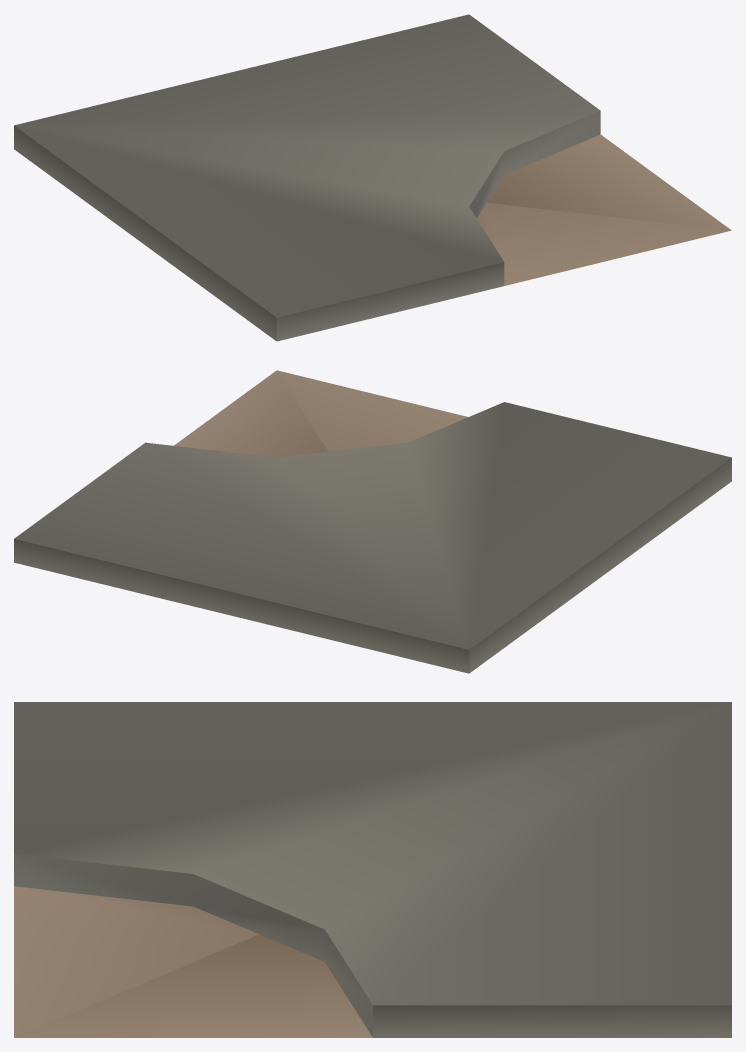
The model's file is road-dirt-corner-inner.glb.
3 renders of one model, top to bottom at view 1: azimuth 30°, elevation 25°; view 2: azimuth 150°, elevation 25°; view 3: azimuth 270°, elevation 25°, orthographic. The views are drawn at different scales.
Parts seen in each view (by area): view 1: road-dirt-corner-inner; view 2: road-dirt-corner-inner; view 3: road-dirt-corner-inner.
Part boxes in pixels (x1,y1,x2,y2): road-dirt-corner-inner: (14,14,731,341); road-dirt-corner-inner: (14,370,731,673); road-dirt-corner-inner: (14,702,731,1037).
Bounding box in the file's own units: 1 × 0.05 × 1.
